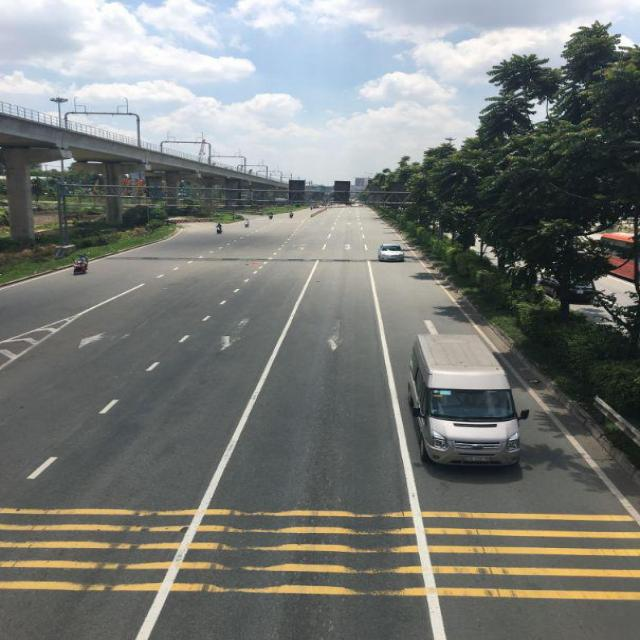car: (409, 328, 524, 468), (378, 242, 405, 262)
motorcycle: (73, 256, 90, 276)
